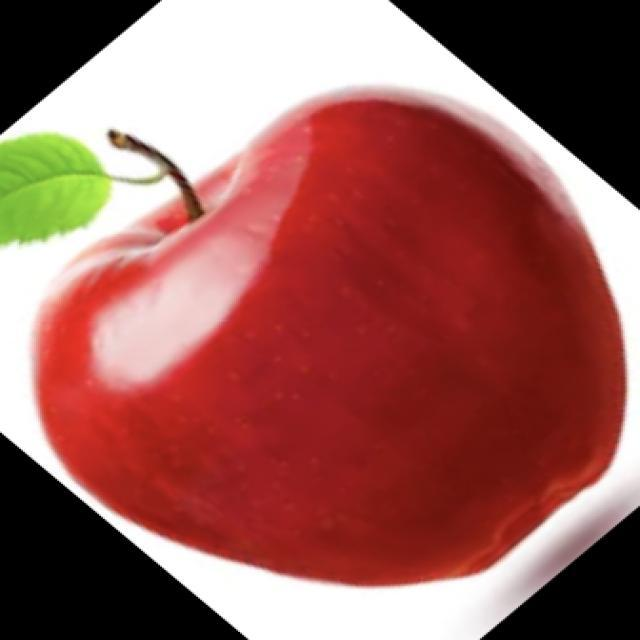Fresh Apple: (87, 119, 620, 594)
